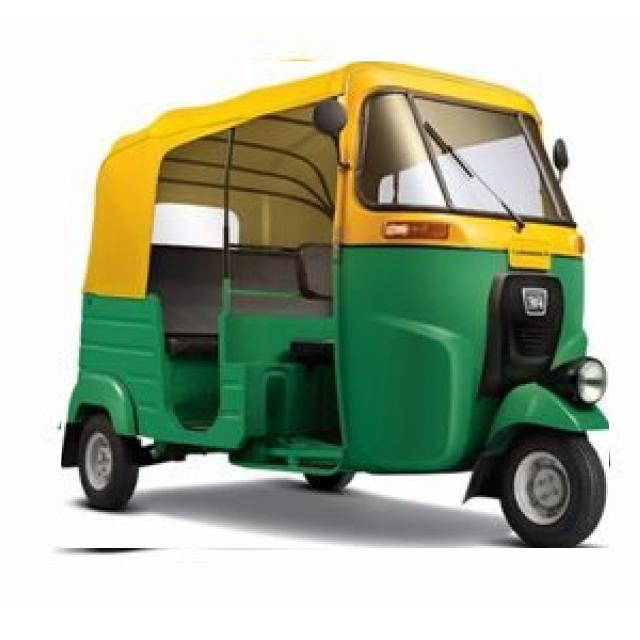autorickshaw: (61, 61, 609, 548)
